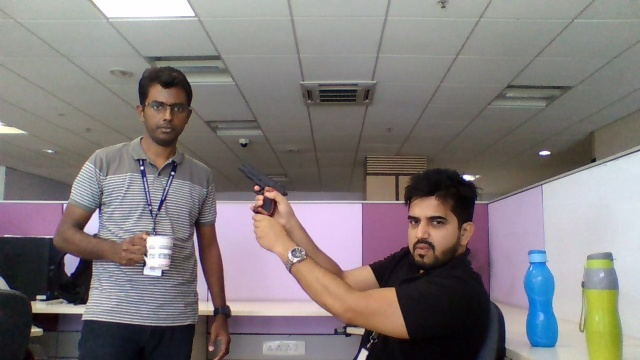gun: (237, 157, 284, 213)
